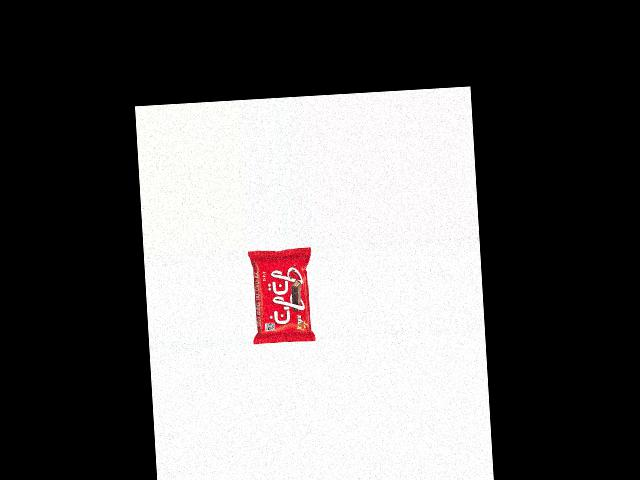chocolate: (246, 247, 315, 344)
